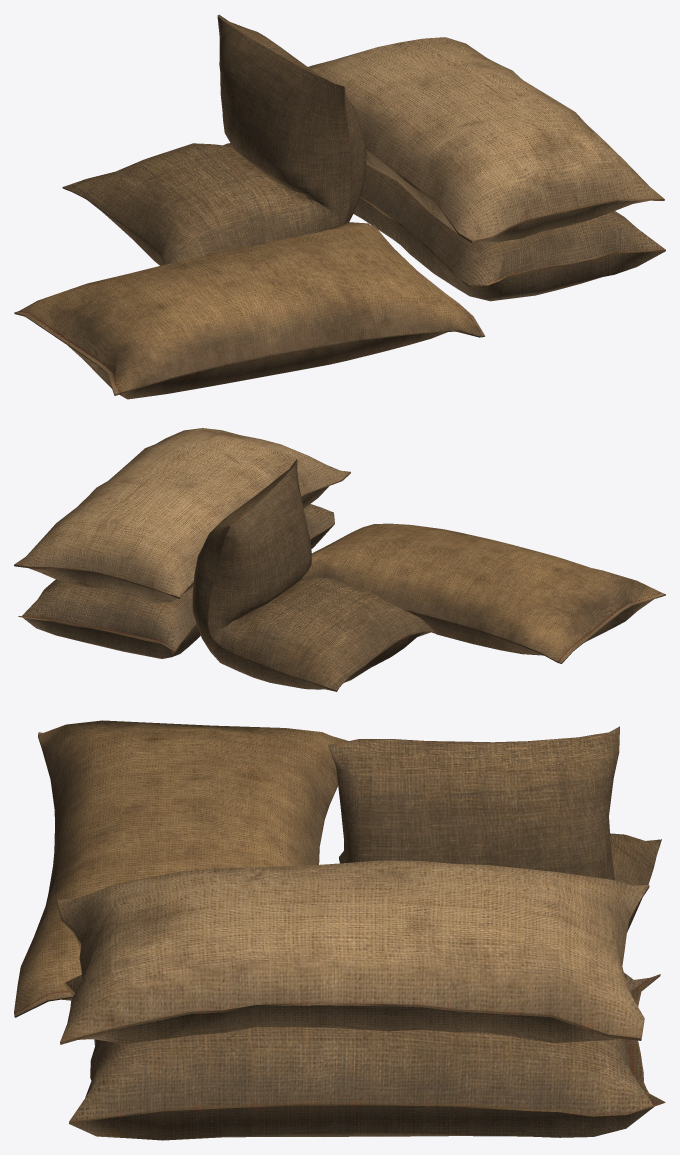
File: Sacks.fbx
3 views of the same model, one above another, from view 1: azimuth 30°, elevation 25°; view 2: azimuth 150°, elevation 25°; view 3: azimuth 270°, elevation 25° (orthographic). The views are drawn at different scales.
Parts seen in each view (by area): view 1: Sacks; view 2: Sacks; view 3: Sacks.
Part boxes in pixels (left/top/right/bottom): Sacks: left=14, top=14, right=665, bottom=399; Sacks: left=14, top=428, right=665, bottom=691; Sacks: left=14, top=720, right=665, bottom=1140.
Bounding box in the file's own units: 210 × 67.19 × 148.
